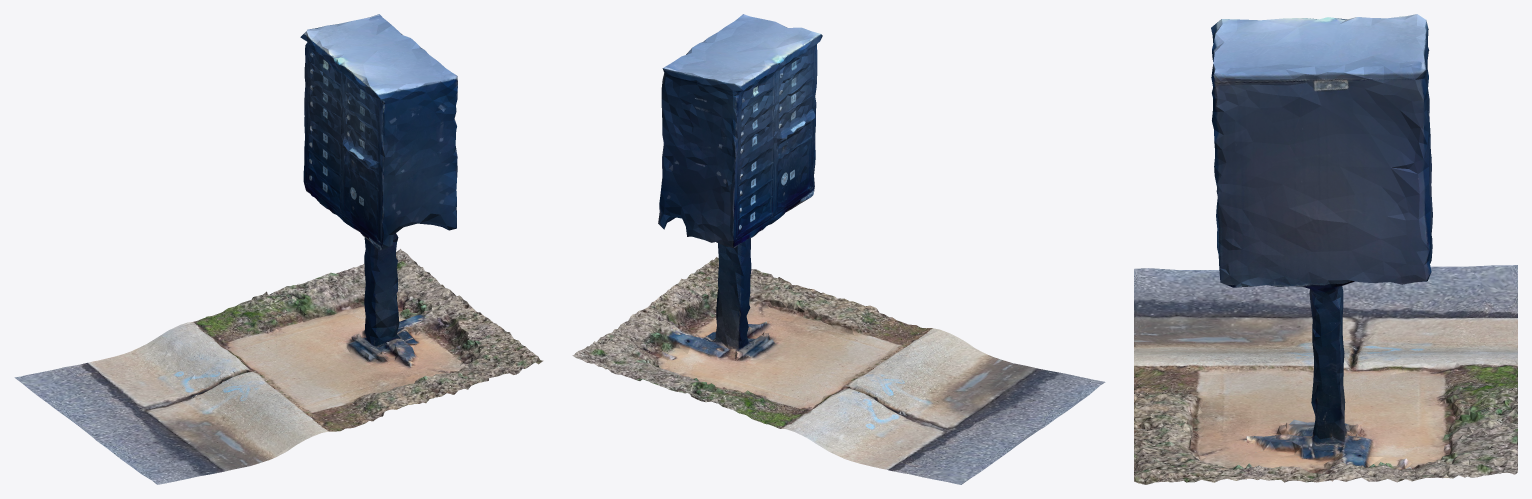
Rendered from mailbox_subdivision.glb.
The picture shows the model from 3 angles, left to right: view 1: azimuth 30°, elevation 25°; view 2: azimuth 150°, elevation 25°; view 3: azimuth 270°, elevation 25°; orthographic projection. The views are drawn at different scales.
Size of the model in its own units: 2.14 by 1.68 by 1.37.
1 material, 1 textured.
